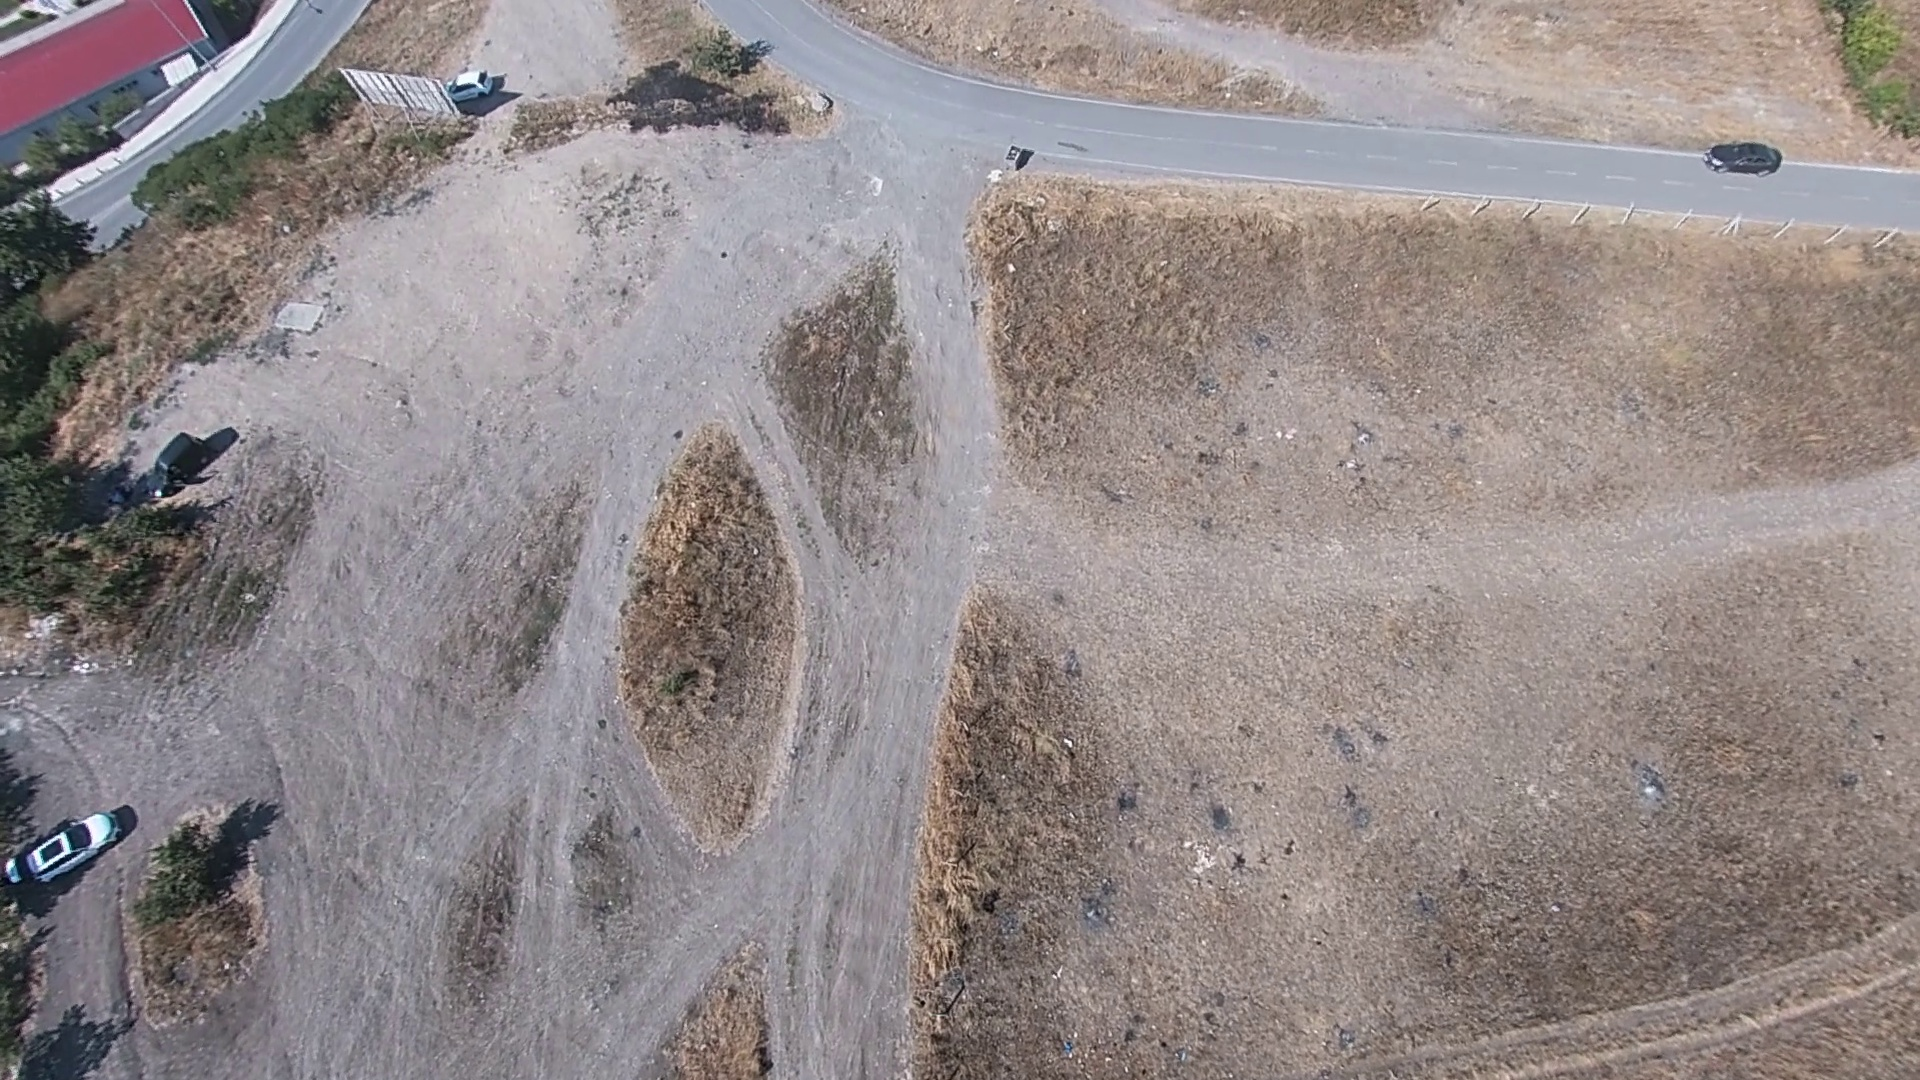araba: (9, 807, 127, 887), (148, 423, 202, 502), (1698, 141, 1787, 177), (446, 65, 498, 103)
